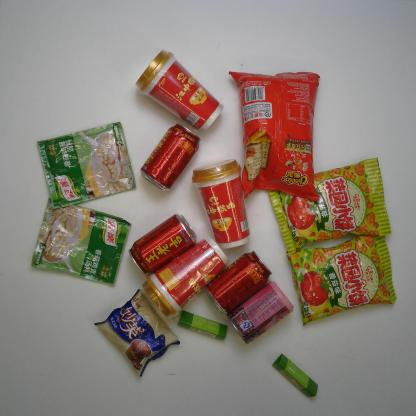Canned Food: (226, 280, 295, 345)
Dessert: (93, 288, 181, 377)
Drink: (205, 250, 273, 315), (128, 213, 198, 275), (140, 122, 201, 192)
Instant Drink: (134, 48, 224, 133), (142, 236, 230, 320), (192, 157, 252, 249)
Puffed Food: (267, 156, 393, 255), (228, 69, 320, 201), (285, 234, 397, 327)
Seasoner: (36, 121, 137, 210), (30, 198, 132, 286)
Stationery: (272, 354, 318, 398), (176, 310, 228, 341)
